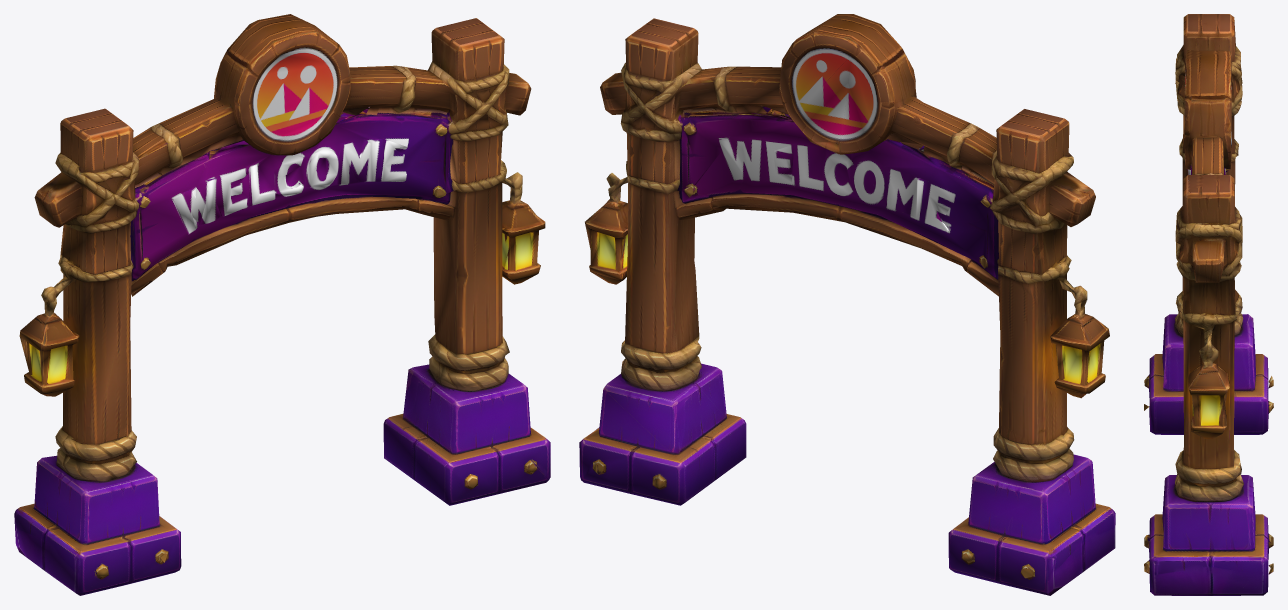
File: welcome.glb
3 renders of one model, left to right at view 1: azimuth 30°, elevation 25°; view 2: azimuth 150°, elevation 25°; view 3: azimuth 270°, elevation 25°, orthographic. The views are drawn at different scales.
Size of the model in its own units: 1.91 by 1.78 by 0.4775.
Materials: 1 (1 with a texture image).
